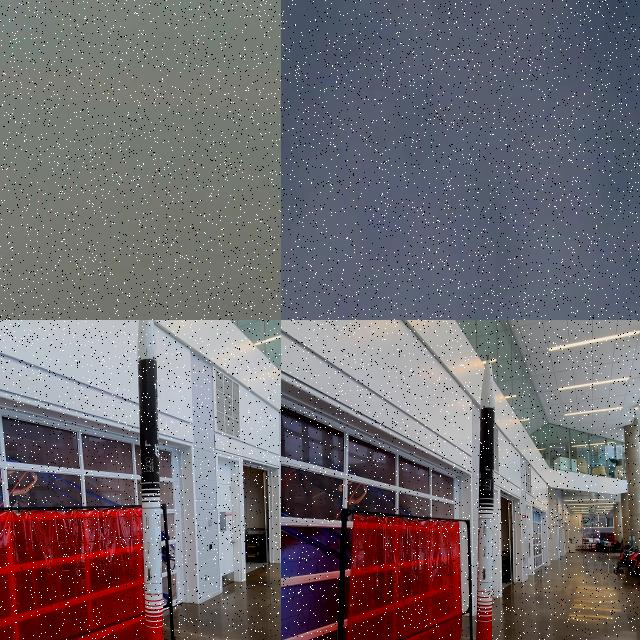Rocket: (137, 320, 164, 640), (476, 354, 495, 640)
